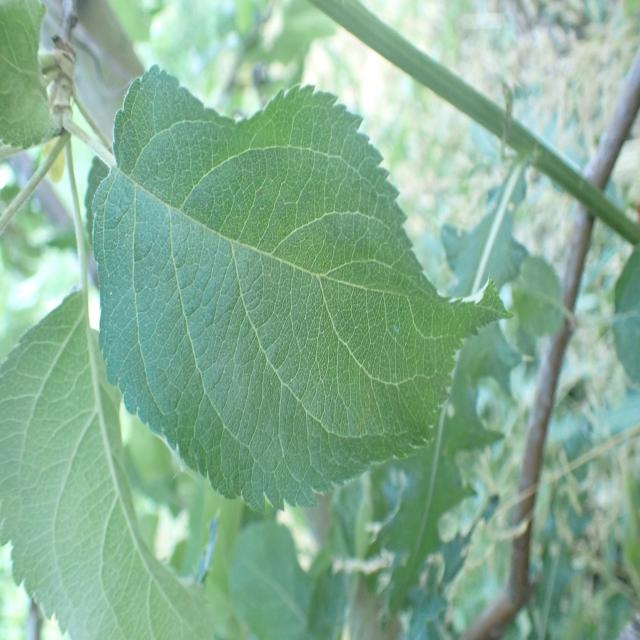healthy: (89, 62, 512, 512), (0, 288, 216, 640), (0, 0, 60, 148)
